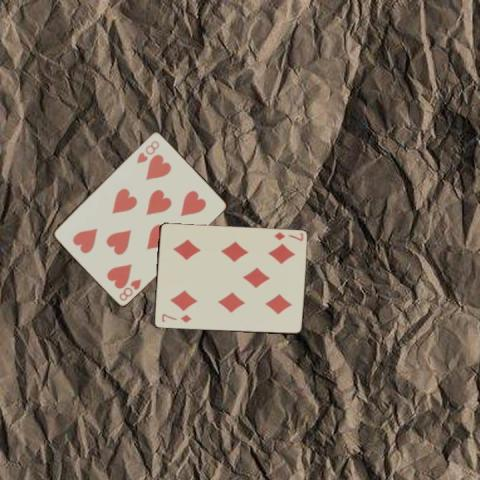7d: (270, 229, 304, 243), (158, 311, 192, 324)
8h: (133, 137, 161, 165), (116, 276, 143, 302)
